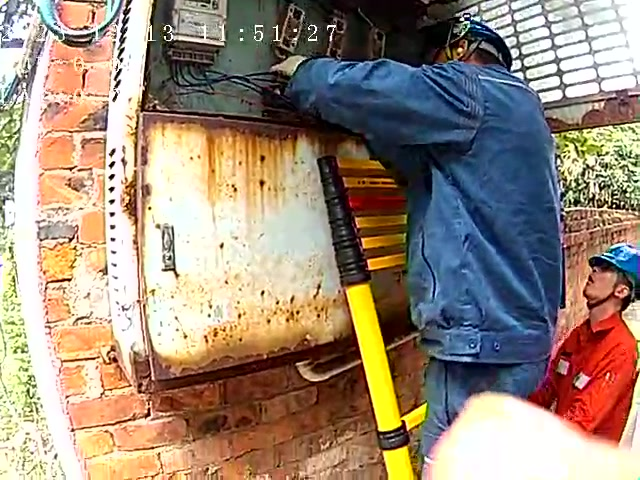downsuit: (419, 356, 547, 443)
halt: (417, 12, 514, 70), (584, 244, 640, 308)
inear: (442, 22, 484, 60), (607, 273, 638, 306)
person: (277, 6, 573, 451), (521, 242, 640, 438)
upsuit: (289, 52, 572, 364)
wglove: (270, 53, 308, 78)
yupsuit: (529, 310, 640, 442)
